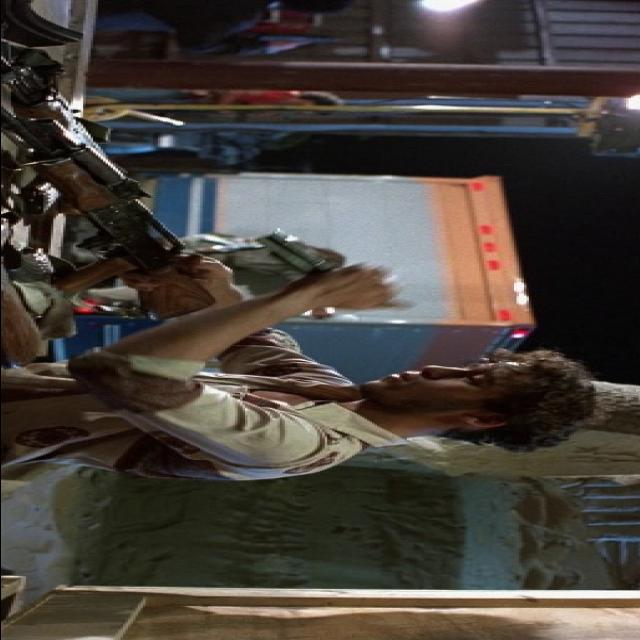weapons: (26, 94, 228, 344)
